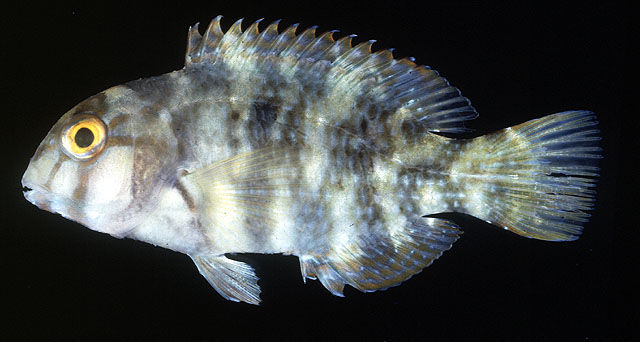fish: (21, 14, 604, 304)
